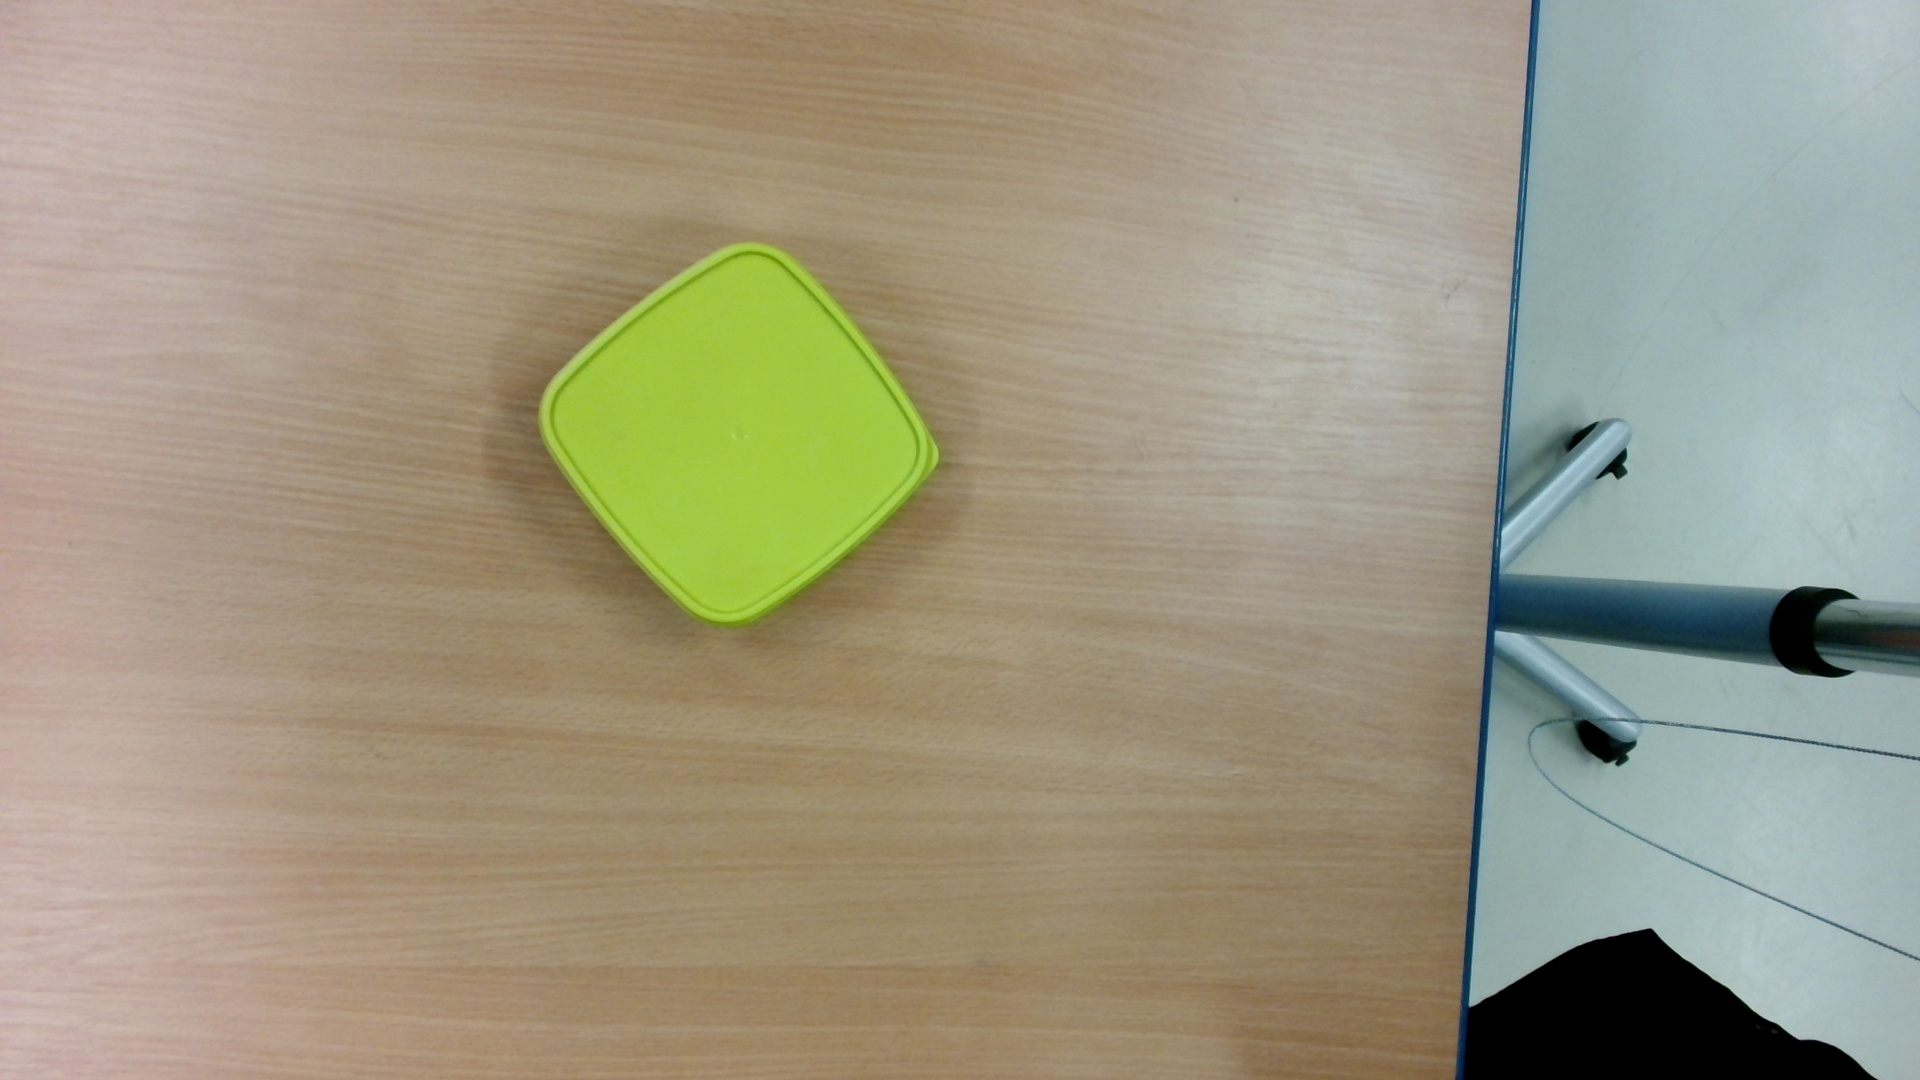Box: (529, 233, 947, 642)
